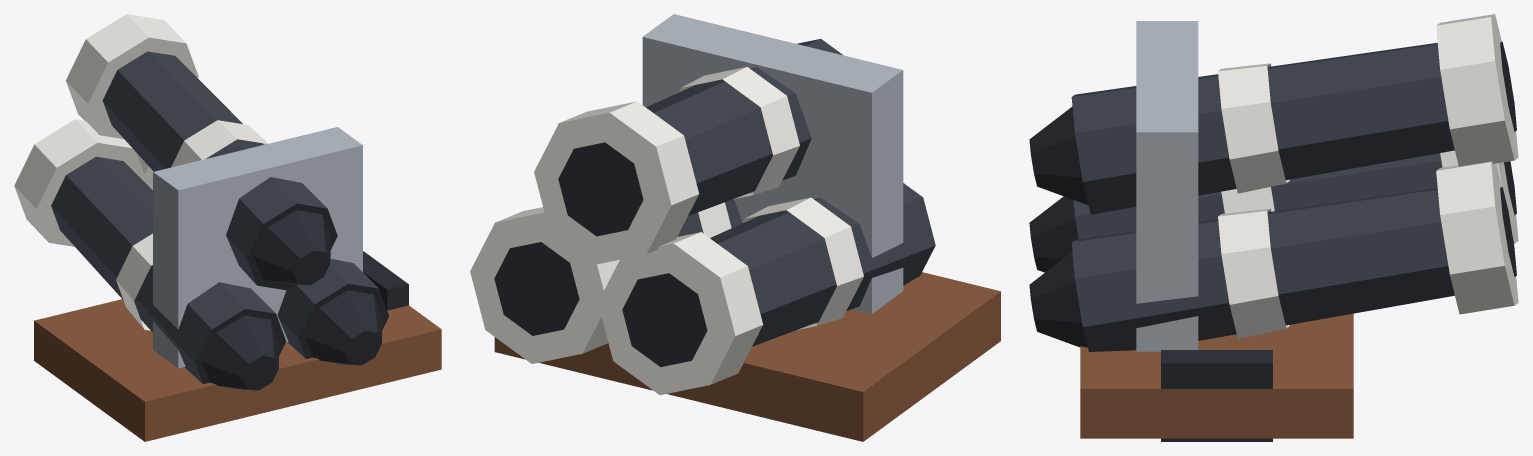
Rendered from G_Topik_3.fbx.
3 renders of one model, left to right at view 1: azimuth 30°, elevation 25°; view 2: azimuth 150°, elevation 25°; view 3: azimuth 270°, elevation 25°, orthographic. The views are drawn at different scales.
Parts seen in each view (by area): view 1: G_Topik_3; view 2: G_Topik_3; view 3: G_Topik_3.
Part boxes in pixels (x1=…): G_Topik_3: x1=14, y1=14, x2=441, y2=441; G_Topik_3: x1=470, y1=14, x2=1000, y2=441; G_Topik_3: x1=1029, y1=14, x2=1518, y2=441.
Bounding box in the file's own units: 0.391 × 0.343 × 0.4528.
